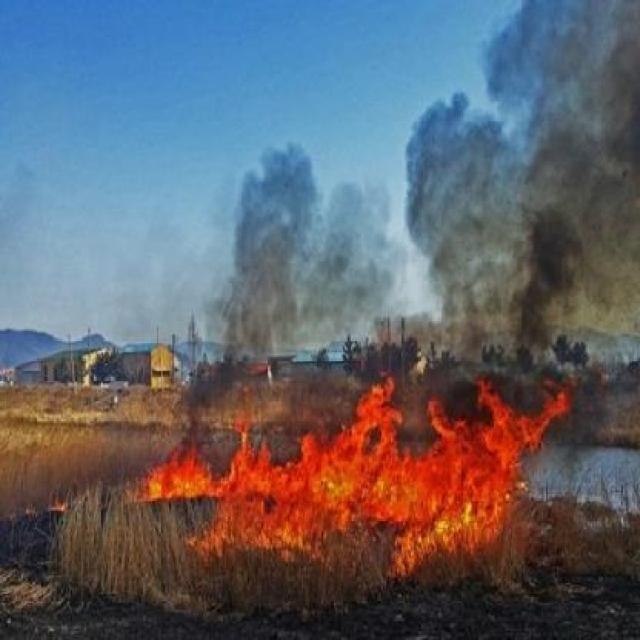Fire: (145, 333, 597, 602)
Smoke: (378, 49, 640, 323)
